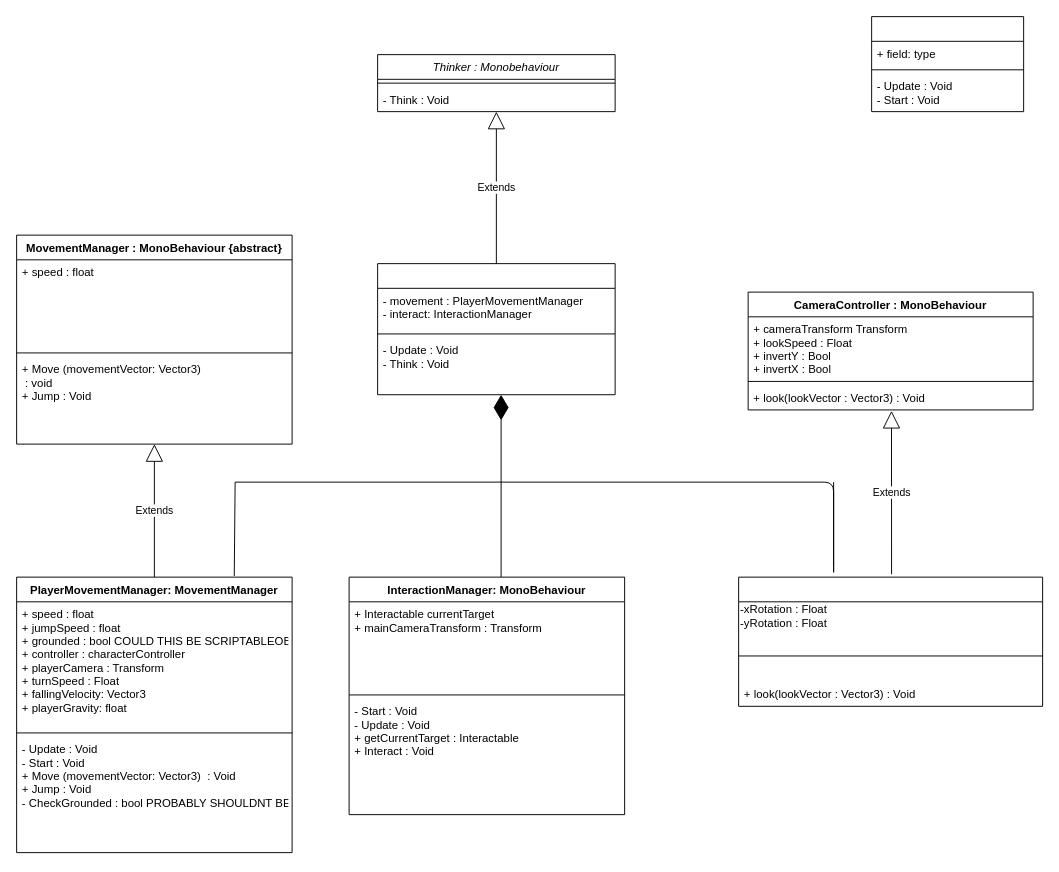
This 1059x872 diagram has some shape labels left out. Here are the shapes that lost their labels. From the top down, the box of each, then its label:
(871, 16, 1024, 112): Monobehaviour
(377, 263, 615, 395): PlayerThinker : Thinker
(738, 576, 1043, 706): FPCameraController : CameraController
